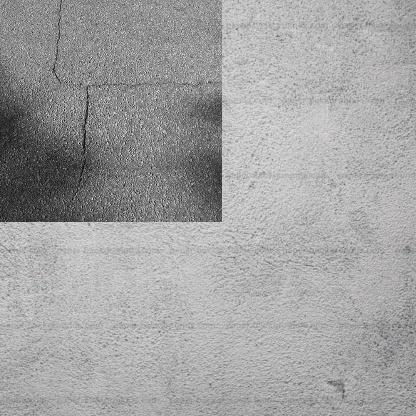Cracks: (47, 0, 203, 188)
